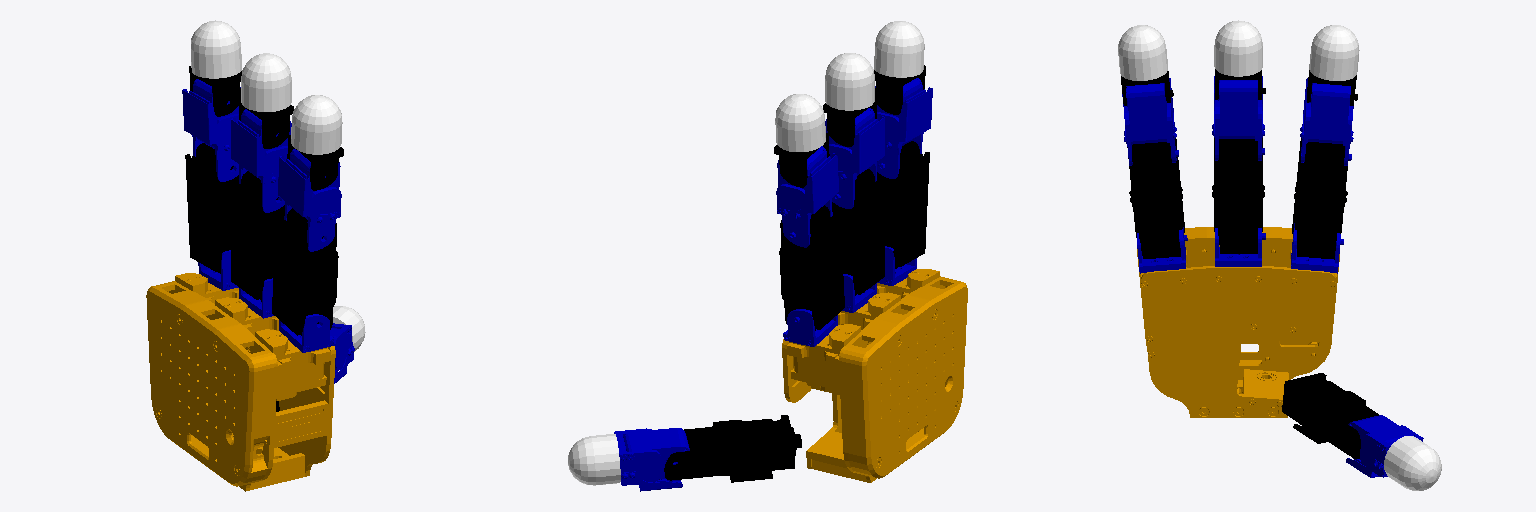
The robot description file, URDF, robot "allegro_hand":
<?xml version="1.0"?>
<robot name="allegro_hand">

  <material name="blue">
    <color rgba="0 0 0.8 1"/>
  </material>
  <material name="black">
    <color rgba="0 0 0 1"/>
  </material>
  <material name="white">
    <color rgba="1 1 1 1"/>
  </material>

  <link name="base_link">
    <visual>
      <geometry>
        <mesh filename="package://urdf_allegro_hand_r/meshes/40_10_link_g_r.stl"/>
      </geometry>
    </visual>
    <collision>
      <geometry>
        <mesh filename="package://urdf_allegro_hand_r/meshes/40_10_link_g_r.stl"/>
      </geometry>
    </collision>
    <inertial>
      <mass value="4.1685782e+02"/>
      <inertia ixx="1.1139612e+11" ixy="-9.2906454e+10" ixz="7.3970369e+09" 
      iyx= "-9.2906454e+10" iyy="4.6122500e+11" iyz="4.9169085e+09" 
      izx = "7.3970369e+09" izy = "4.9169085e+09" izz="5.7081991e+11"/>
    </inertial>
  </link>
  <!--Middle FInger-->
  <link name="mf1">
    <visual>
      <geometry>
        <mesh filename="package://urdf_allegro_hand_r/meshes/40_10_link_f1.stl"/>
      </geometry>
      <material name="blue"/>
      <origin xyz ="0 0 0.0166 "/>
    </visual>
    <collision>
      <geometry>
        <mesh filename="package://urdf_allegro_hand_r/meshes/40_10_link_f1.stl"/>
      </geometry>
      <origin xyz ="0 0 0.0166 "/>
    </collision>
    <inertial>
      <mass value="1.1350110e+01" />
      <inertia ixx=" 2.7007029e+03" ixy="3.1772169e+00" ixz="-9.9625685e+00" 
      iyx= "3.1772169e+00" iyy=" 2.0578543e+03" iyz="4.1823243e+00" 
      izx = "-9.9625685e+00" izy = "4.1823243e+00" izz=" 1.2713693e+03"/>
    </inertial>
  </link>
  <joint name="mf1" type="revolute">
    <parent link="base_link"/>
    <child link="mf1"/>
    <axis xyz="0 0 1"/>
    <origin xyz = "0 0 0"/>
    <limit lower="-0.57" upper="0.57" effort="10" velocity="3"/>
  </joint> 

  <link name="mf2">
    <visual>
      <geometry>
        <mesh filename="package://urdf_allegro_hand_r/meshes/40_10_link_f2.stl"/>
      </geometry>
      <material name="black"/>
      <origin rpy = "-1.5708 -1.5708 0" xyz ="0 0 0 "/>
    </visual>
    <collision>
      <geometry>
        <mesh filename="package://urdf_allegro_hand_r/meshes/40_10_link_f2.stl" />
      </geometry>
      <origin rpy = "-1.5708 -1.5708 0" xyz ="0 0 0 "/>
    </collision>
    <inertial>
      <mass value="7.1189096e+01" />
      <inertia ixx="1.0469372e+11" ixy="-4.2436168e+10" ixz="-1.8101962e+10" 
      iyx= "-4.2436168e+10" iyy="6.1027234e+11" iyz="3.7248539e+09" 
      izx = " -1.8101962e+10" izy = "3.7248539e+09" izz=" 5.7968823e+11"/>
    </inertial>
  </link>

  <joint name="mf2" type="revolute">
    <parent link="mf1"/>
    <child link="mf2"/>
    <origin xyz= "0 0 0.0166"/>
    <limit lower="-0.296" upper=" 1.71" effort="10" velocity="3"/>
    <axis xyz="0 1 0"/>
  </joint> 

  <link name="mf3">
    <visual>
      <geometry>
        <mesh filename="package://urdf_allegro_hand_r/meshes/40_10_link_f3.stl"/>
      </geometry>
      <material name="blue"/>
      <origin rpy = "-1.5708 0 0" xyz ="0 0 0 "/>
    </visual>
    <collision>
      <geometry>
        <mesh filename="package://urdf_allegro_hand_r/meshes/40_10_link_f3.stl" />
      </geometry>
      <origin rpy = "-1.5708 0 0" xyz ="0 0 0 "/>
    </collision>
    <inertial>
      <mass value="3.7588606e+01" />
      <inertia ixx="  4.6626681e+10" ixy="-4.6540270e+10" ixz="2.8462066e+09" 
      iyx= " -4.6540270e+10" iyy=" 1.5452396e+11" iyz="1.2914215e+09" 
      izx = " 2.8462066e+09" izy = "1.2914215e+09" izz="1.6359427e+11"/>
    </inertial>
  </link>

  <joint name="mf3" type="revolute">
    <parent link="mf2"/>
    <child link="mf3"/>
    <origin xyz= "0 0 0.054" rpy = "0 -1.5708 0"/>
    <limit lower="-0.274" upper=" 1.809" effort="10" velocity="3"/>
    <axis xyz="0 1 0"/>
  </joint> 

  <link name="mf4">
    <visual>
      <geometry>
        <mesh filename="package://urdf_allegro_hand_r/meshes/40_10_link_f4.stl"/>
      </geometry>
      <material name="black"/>
      <origin rpy = "-1.5708 0 0" xyz ="0 0 0 "/>
    </visual>
    <collision>
      <geometry>
        <mesh filename="package://urdf_allegro_hand_r/meshes/40_10_link_f4.stl" />
      </geometry>
      <origin rpy = "-1.5708 0 0" xyz ="0 0 0 "/>
    </collision>
    <inertial>
      <mass value="9.4301124e+00" />
      <inertia ixx=" 1.2117405e+03" ixy="9.9624823e+00" ixz="6.9119137e-01" 
      iyx= "9.9624823e+00" iyy="  2.1794983e+03" iyz="3.1772815e+00" 
      izx = "6.9119137e-01" izy = "3.1772815e+00" izz=" 1.5590472e+03"/>
    </inertial>
  </link>

  <joint name="mf4" type="revolute">
    <parent link="mf3"/>
    <child link="mf4"/>
    <origin xyz= "0.0384 0 0" rpy = "0 0 0"/>
    <limit lower="-0.327" upper="1.718" effort="10" velocity="3"/>
    <axis xyz="0 1 0"/>
  </joint> 

<link name="mf5">
    <visual>
      <geometry>
        <mesh filename="package://urdf_allegro_hand_r/meshes/40_10_link_f5.stl"/>
      </geometry>
      <material name="white"/>
      <origin rpy = "-1.5708 0 0" xyz ="0 0 0 "/>
    </visual>
    <collision>
      <geometry>
        <mesh filename="package://urdf_allegro_hand_r/meshes/40_10_link_f5.stl" />
      </geometry>
      <origin rpy = "-1.5708 0 0" xyz ="0 0 0 "/>
    </collision>
    <inertial>
      <mass value="1.6654268e+01" />
      <inertia ixx=" 7.2993680e+01" ixy=" 0.0000000e+00" ixz="0.0000000e+00" 
      iyx= "0.0000000e+00" iyy= "1.1760891e+02" iyz="0.0000000e+00" 
      izx = "0.0000000e+00" izy = "0.0000000e+00" izz="1.0967651e+02"/>
    </inertial>
  </link>

  <joint name="mf5" type="fixed">
    <parent link="mf4"/>
    <child link="mf5"/>
    <origin xyz= "0.0157 0 0"/>
  </joint> 

<!--Pinky Finger-->
  <link name="pf1">
    <visual>
      <geometry>
        <mesh filename="package://urdf_allegro_hand_r/meshes/40_10_link_f1.stl"/>
      </geometry>
      <material name="blue"/>
    </visual>
    <collision>
      <geometry>
        <mesh filename="package://urdf_allegro_hand_r/meshes/40_10_link_f1.stl"/>
      </geometry>
    </collision>
    <inertial>
      <mass value="1.1350110e+01" />
      <inertia ixx=" 2.7007029e+03" ixy="3.1772169e+00" ixz="-9.9625685e+00" 
      iyx= "3.1772169e+00" iyy=" 2.0578543e+03" iyz="4.1823243e+00" 
      izx = "-9.9625685e+00" izy = "4.1823243e+00" izz=" 1.2713693e+03"/>
    </inertial>
  </link>
  <joint name="pf1" type="revolute">
    <parent link="base_link"/>
    <child link="pf1"/>
    <axis xyz="0 0 1"/>
    <origin rpy = "0.0872665 0 0" xyz ="0 -0.045098 0.014293 "/>
    <limit lower="-0.57" upper="0.57" effort="10" velocity="3"/>
  </joint>

  <link name="pf2">
    <visual>
      <geometry>
        <mesh filename="package://urdf_allegro_hand_r/meshes/40_10_link_f2.stl"/>
      </geometry>
      <material name="black"/>
      <origin rpy = " -1.5708  -1.5708 0" xyz ="0 0 0 "/>
    </visual>
    <collision>
      <geometry>
        <mesh filename="package://urdf_allegro_hand_r/meshes/40_10_link_f2.stl" />
      </geometry>
      <origin rpy = " -1.5708  -1.5708 0" xyz ="0 0 0 "/>
    </collision>
  </link>
  <joint name="pf2" type="revolute">
    <parent link="pf1"/>
    <child link="pf2"/>
    <origin rpy = "0 0 0" xyz ="0 0 0 "/>
    <limit lower="-0.296" upper="1.71" effort="10" velocity="3"/>
    <axis xyz="0 1 0"/>
  </joint> 
  

  <link name="pf3">
    <visual>
      <geometry>
        <mesh filename="package://urdf_allegro_hand_r/meshes/40_10_link_f3.stl"/>
      </geometry>
      <material name="blue"/>
      <origin rpy = "-1.5708 0 0" xyz ="0 0 0 "/>
    </visual>
    <collision>
      <geometry>
        <mesh filename="package://urdf_allegro_hand_r/meshes/40_10_link_f3.stl" />
      </geometry>
      <origin rpy = "-1.5708 0 0" xyz ="0 0 0 "/>
    </collision>
    <inertial>
      <mass value="3.7588606e+01" />
      <inertia ixx="  4.6626681e+10" ixy="-4.6540270e+10" ixz="2.8462066e+09" 
      iyx= " -4.6540270e+10" iyy=" 1.5452396e+11" iyz="1.2914215e+09" 
      izx = " 2.8462066e+09" izy = "1.2914215e+09" izz="1.6359427e+11"/>
    </inertial>
  </link>

  <joint name="pf3" type="revolute">
    <parent link="pf2"/>
    <child link="pf3"/>
    <origin xyz= "0 0 0.054" rpy = "0 -1.5708 0"/>
    <limit lower="-0.274" upper="1.809" effort="10" velocity="3"/>
    <axis xyz="0 1 0"/>
  </joint> 

  <link name="pf4">
    <visual>
      <geometry>
        <mesh filename="package://urdf_allegro_hand_r/meshes/40_10_link_f4.stl"/>
      </geometry>
      <material name="black"/>
      <origin rpy = "-1.5708 0 0" xyz ="0 0 0 "/>
    </visual>
    <collision>
      <geometry>
        <mesh filename="package://urdf_allegro_hand_r/meshes/40_10_link_f4.stl" />
      </geometry>
      <origin rpy = "-1.5708 0 0" xyz ="0 0 0 "/>
    </collision>
    <inertial>
      <mass value="9.4301124e+00" />
      <inertia ixx=" 1.2117405e+03" ixy="9.9624823e+00" ixz="6.9119137e-01" 
      iyx= "9.9624823e+00" iyy="  2.1794983e+03" iyz="3.1772815e+00" 
      izx = "6.9119137e-01" izy = "3.1772815e+00" izz=" 1.5590472e+03"/>
    </inertial>
  </link>

  <joint name="pf4" type="revolute">
    <parent link="pf3"/>
    <child link="pf4"/>
    <origin xyz= "0.0384 0 0"/>
     <limit lower="-0.327" upper="1.718" effort="10" velocity="3"/>
    <axis xyz="0 1 0"/>
  </joint> 

  <link name="pf5">
    <visual>
      <geometry>
        <mesh filename="package://urdf_allegro_hand_r/meshes/40_10_link_f5.stl"/>
      </geometry>
      <material name="white"/>
      <origin rpy = "-1.5708 0 0" xyz ="0 0 0 "/>
    </visual>
    <collision>
      <geometry>
        <mesh filename="package://urdf_allegro_hand_r/meshes/40_10_link_f5.stl" />
      </geometry>
      <origin rpy = "-1.5708 0 0" xyz ="0 0 0 "/>
    </collision>
    <inertial>
      <mass value="1.6654268e+01" />
      <inertia ixx=" 7.2993680e+01" ixy=" 0.0000000e+00" ixz="0.0000000e+00" 
      iyx= "0.0000000e+00" iyy= "1.1760891e+02" iyz="0.0000000e+00" 
      izx = "0.0000000e+00" izy = "0.0000000e+00" izz="1.0967651e+02"/>
    </inertial>
  </link>

  <joint name="pf5" type="fixed">
    <parent link="pf4"/>
    <child link="pf5"/>
    <origin xyz= "0.0157 0 0"/>
  </joint> 
<!--Index FInger-->

<link name="if1">
    <visual>
      <geometry>
        <mesh filename="package://urdf_allegro_hand_r/meshes/40_10_link_f1.stl"/>
      </geometry>
      <material name="blue"/>
    </visual>
    <collision>
      <geometry>
        <mesh filename="package://urdf_allegro_hand_r/meshes/40_10_link_f1.stl"/>
      </geometry>
    </collision>
    <inertial>
      <mass value="1.1350110e+01" />
      <inertia ixx=" 2.7007029e+03" ixy="3.1772169e+00" ixz="-9.9625685e+00" 
      iyx= "3.1772169e+00" iyy=" 2.0578543e+03" iyz="4.1823243e+00" 
      izx = "-9.9625685e+00" izy = "4.1823243e+00" izz=" 1.2713693e+03"/>
    </inertial>
  </link>
  <joint name="if1" type="revolute">
    <parent link="base_link"/>
    <child link="if1"/>
    <axis xyz="0 0 1"/>
    <origin rpy = "-0.0872665 0 0" xyz ="0 0.045098 0.014293 "/>
    <limit lower="-0.57" upper="0.57" effort="10" velocity="3"/>
  </joint>

<link name="if2">
    <visual>
      <geometry>
        <mesh filename="package://urdf_allegro_hand_r/meshes/40_10_link_f2.stl"/>
      </geometry>
      <material name="black"/>
      <origin rpy = " -1.5708  -1.5708 0" xyz ="0 0 0 "/>
    </visual>
    <collision>
      <geometry>
        <mesh filename="package://urdf_allegro_hand_r/meshes/40_10_link_f2.stl" />
      </geometry>
      <origin rpy = " -1.5708  -1.5708 0" xyz ="0 0 0 "/>
    </collision>
  </link>
  <joint name="if2" type="revolute">
    <parent link="if1"/>
    <child link="if2"/>
    <origin rpy = "0 0 0" xyz ="0 0 0 "/>
    <limit lower="-0.296" upper="1.71" effort="10" velocity="3"/>
    <axis xyz="0 1 0"/>
  </joint>

  <link name="if3">
    <visual>
      <geometry>
        <mesh filename="package://urdf_allegro_hand_r/meshes/40_10_link_f3.stl"/>
      </geometry>
      <material name="blue"/>
      <origin rpy = "-1.5708 0 0" xyz ="0 0 0 "/>
    </visual>
    <collision>
      <geometry>
        <mesh filename="package://urdf_allegro_hand_r/meshes/40_10_link_f3.stl" />
      </geometry>
      <origin rpy = "-1.5708 0 0" xyz ="0 0 0 "/>
    </collision>
    <inertial>
      <mass value="3.7588606e+01" />
      <inertia ixx="  4.6626681e+10" ixy="-4.6540270e+10" ixz="2.8462066e+09" 
      iyx= " -4.6540270e+10" iyy=" 1.5452396e+11" iyz="1.2914215e+09" 
      izx = " 2.8462066e+09" izy = "1.2914215e+09" izz="1.6359427e+11"/>
    </inertial>
  </link>

  <joint name="if3" type="revolute">
    <parent link="if2"/>
    <child link="if3"/>
    <origin xyz= "0 0 0.054" rpy = "0 -1.5708 0"/>
    <limit lower="-0.274" upper="1.809" effort="10" velocity="3"/>
    <axis xyz="0 1 0"/>
  </joint> 


  <link name="if4">
    <visual>
      <geometry>
        <mesh filename="package://urdf_allegro_hand_r/meshes/40_10_link_f4.stl"/>
      </geometry>
      <material name="black"/>
      <origin rpy = "-1.5708 0 0" xyz ="0 0 0 "/>
    </visual>
    <collision>
      <geometry>
        <mesh filename="package://urdf_allegro_hand_r/meshes/40_10_link_f4.stl" />
      </geometry>
      <origin rpy = "-1.5708 0 0" xyz ="0 0 0 "/>
    </collision>
    <inertial>
      <mass value="9.4301124e+00" />
      <inertia ixx=" 1.2117405e+03" ixy="9.9624823e+00" ixz="6.9119137e-01" 
      iyx= "9.9624823e+00" iyy="  2.1794983e+03" iyz="3.1772815e+00" 
      izx = "6.9119137e-01" izy = "3.1772815e+00" izz=" 1.5590472e+03"/>
    </inertial>
  </link>

  <joint name="if4" type="revolute">
    <parent link="if3"/>
    <child link="if4"/>
    <origin xyz= "0.0384 0 0"/>
     <limit lower="-0.327" upper="1.718" effort="10" velocity="3"/>
    <axis xyz="0 1 0"/>
  </joint>


  <link name="if5">
    <visual>
      <geometry>
        <mesh filename="package://urdf_allegro_hand_r/meshes/40_10_link_f5.stl"/>
      </geometry>
      <material name="white"/>
      <origin rpy = "-1.5708 0 0" xyz ="0 0 0 "/>
    </visual>
    <collision>
      <geometry>
        <mesh filename="package://urdf_allegro_hand_r/meshes/40_10_link_f5.stl" />
      </geometry>
      <origin rpy = "-1.5708 0 0" xyz ="0 0 0 "/>
    </collision>
    <inertial>
      <mass value="1.6654268e+01" />
      <inertia ixx=" 7.2993680e+01" ixy=" 0.0000000e+00" ixz="0.0000000e+00" 
      iyx= "0.0000000e+00" iyy= "1.1760891e+02" iyz="0.0000000e+00" 
      izx = "0.0000000e+00" izy = "0.0000000e+00" izz="1.0967651e+02"/>
    </inertial>
  </link>

  <joint name="if5" type="fixed">
    <parent link="if4"/>
    <child link="if5"/>
    <origin xyz= "0.0157 0 0"/>
  </joint>




<!--Thumb-->
  <link name="th1">
    <visual>
      <geometry>
        <mesh filename="package://urdf_allegro_hand_r/meshes/40_10_link_t1_r.stl" scale = "0.001 0.001 0.001"/>
        <!-- <origin xyz ="-0.0182 0.016958 -0.073288 " /> -->
      </geometry>
      <material name="blue"/>
    </visual>
    <collision>
      <geometry>
        <mesh filename="package://urdf_allegro_hand_r/meshes/40_10_link_t1_r.stl"/>
      </geometry>
    </collision>
    <inertial>
      <mass value="7.9809876e-02" />
      <inertia ixx="1.1585993e+08" ixy=" -1.2877480e+06" ixz="-4.6980813e+07" 
      iyx= "-1.2877480e+06" iyy=" 1.4364829e+08" iyz="-2.8936529e+06" 
      izx = "-4.6980813e+07" izy = "-2.8936529e+06" izz=" 2.8012673e+07"/>
    </inertial>
  </link>

  <joint name="th1" type="revolute">
    <parent link="base_link"/>
    <child link="th1"/>
    <limit lower="0.36357" upper="1.4968" effort="10" velocity="3"/>
    <axis xyz="0 0 -1"/>
    <origin rpy = "-0.0872665 0 0" xyz ="-0.0182 0.016958 -0.073288 " />
  </joint>


  <link name="th2">
    <visual>
      <geometry>
        <mesh filename="package://urdf_allegro_hand_r/meshes/40_10_link_t2.stl" scale = "0.001 0.001 0.001"/>
      </geometry>
      <material name="black"/>
      <origin rpy = " -1.5708 -1.5708 0" xyz ="0 0 0 "/>
    </visual>
    <collision>
      <geometry>
        <mesh filename="package://urdf_allegro_hand_r/meshes/40_10_link_t2.stl" scale = "0.001 0.001 0.001"/>
      </geometry>
    </collision>
    <inertial>
      <mass value="1.1350110e-02" />
      <inertia ixx="2.7007029e+00" ixy=" 3.1772015e-03" ixz="-9.9625696e-03" 
      iyx= "3.1772015e-03" iyy="2.0578543e+00" iyz="4.1823243e-03" 
      izx = "-9.9625696e-03" izy = "4.1823243e-03" izz=" 1.2713693e+00"/>
    </inertial>
  </link>
  <joint name="th2" type="revolute">
    <parent link="th1"/>
    <child link="th2"/>
    <origin rpy = "0 0 0" xyz ="0.005 0.055189 0 "/>
    <limit lower="-0.20504289" upper="1.263" effort="10" velocity="3"/>
    <axis xyz="0 1 0"/>
    
  </joint>

  <link name="th3">
    <visual>
      <geometry>
        <mesh filename="package://urdf_allegro_hand_r/meshes/40_10_link_t3.stl"/>
      </geometry>
      <material name="black"/>
      <origin rpy = " 0  0 -1.5708" xyz ="0 0 0 "/>
    </visual>
    <collision>
      <geometry>
        <mesh filename="package://urdf_allegro_hand_r/meshes/40_10_link_t3.stl" />
      </geometry>
    </collision>
    <inertial>
      <mass value=" 4.0206693e-02" />
      <inertia ixx=" 2.7804865e+07" ixy="1.3945030e+06" ixz="0.0000000e+00" 
      iyx= " 1.3945030e+06" iyy="7.3569085e+07" iyz=" 1.7291527e+04" 
      izx = " 0.0000000e+00" izy = "1.7291527e+04" izz="6.3982627e+07"/>
    </inertial>
  </link>
  <joint name="th3" type="revolute">
    <parent link="th2"/>
    <child link="th3"/>
    <origin rpy = "0 0 0" xyz ="0 0 0 "/>
    <limit lower="-0.2897" upper="1.7440" effort="10" velocity="3"/>
    <axis xyz="1 0 0"/>
  </joint>

  <link name="th4">
    <visual>
      <geometry>
        <mesh filename="package://urdf_allegro_hand_r/meshes/40_10_link_t4.stl"/>
      </geometry>
      <material name="blue"/>
      <origin rpy = " 0  0 -1.5708" xyz ="0 0 0 "/>
    </visual>
    <collision>
      <geometry>
        <mesh filename="package://urdf_allegro_hand_r/meshes/40_10_link_t4.stl" />
      </geometry>
    </collision>
    <inertial>
      <mass value=" 4.0750131e-02" />
      <inertia ixx=" 2.7804864e+07" ixy=" 1.3945020e+06" ixz="0.0000000e+00" 
      iyx= "  1.3945020e+06" iyy="7.3569079e+07" iyz="1.7291521e+04" 
      izx = " 0.0000000e+00" izy = " 1.7291521e+04" izz="6.3982622e+07"/>
    </inertial>
  </link>
  <joint name="th4" type="revolute">
    <parent link="th3"/>
    <child link="th4"/>
    <origin rpy = "0 0 0" xyz ="0 0.051204 0 "/>
    <limit lower="-0.2622" upper="1.81991" effort="10" velocity="3"/>
    <axis xyz="1 0 0"/>
  </joint>

  <link name="th5">
    <visual>
      <geometry>
        <mesh filename="package://urdf_allegro_hand_r/meshes/40_10_link_f5.stl"/>
      </geometry>
      <material name="white"/>
      <origin rpy = " 0  0 1.5708" xyz ="0 0 0 "/>
    </visual>
    <collision>
      <geometry>
        <mesh filename="package://urdf_allegro_hand_r/meshes/40_10_link_f5.stl" />
      </geometry>
    </collision>
    <inertial>
      <mass value="1.6654268e+01" />
      <inertia ixx=" 7.2993680e+01" ixy=" 0.0000000e+00" ixz="0.0000000e+00" 
      iyx= "0.0000000e+00" iyy= "1.1760891e+02" iyz="0.0000000e+00" 
      izx = "0.0000000e+00" izy = "0.0000000e+00" izz="1.0967651e+02"/>
    </inertial>
  </link>
  <joint name="th5" type="fixed">
    <parent link="th4"/>
    <child link="th5"/>
    <origin rpy = "0 -1.4835335 0" xyz ="0 0.0313 0 "/>
    
  </joint>


</robot>

--- Render facts (derived) ---
The picture shows the robot from 3 angles, left to right: view 1: azimuth 30°, elevation 25°; view 2: azimuth 150°, elevation 25°; view 3: azimuth 270°, elevation 25°; orthographic projection.
Model allegro_hand with 21 links and 20 joints (16 revolute, 4 fixed), rooted at base_link, posed all joints at 0 but 1 set to mid-range because 0 is outside their limits (th1 = 0.9302).
Links seen in each view (by area): view 1: base_link, pf2, mf2, if2, pf3, mf3, if3, pf5, mf5, if5, pf1, if4 (+6 smaller); view 2: base_link, if2, th3, mf2, pf2, if3, th4, mf3, pf3, if5, mf5, pf5 (+8 smaller); view 3: base_link, if2, pf2, mf2, th3, if3, pf3, mf3, th5, mf5, if5, pf5 (+5 smaller).
Link boxes in pixels (box(x1,y1,x2,y2)): base_link: box(146, 273, 335, 491); pf2: box(272, 208, 338, 335); mf2: box(231, 171, 284, 301); if2: box(185, 143, 238, 273); pf3: box(278, 149, 341, 251); mf3: box(231, 109, 291, 212); if3: box(182, 79, 240, 181); pf5: box(291, 95, 342, 154); mf5: box(241, 53, 291, 111); if5: box(191, 20, 241, 78); pf1: box(279, 314, 333, 352); if4: box(189, 66, 241, 116); base_link: box(782, 269, 967, 482); if2: box(779, 205, 844, 330); th3: box(664, 419, 780, 482); mf2: box(832, 169, 884, 295); pf2: box(877, 141, 929, 268); if3: box(776, 146, 838, 247); th4: box(614, 428, 689, 491); mf3: box(825, 108, 884, 208); pf3: box(875, 78, 932, 178); if5: box(775, 94, 825, 151); mf5: box(825, 53, 874, 110); pf5: box(874, 21, 924, 77); base_link: box(1137, 227, 1339, 417); if2: box(1292, 138, 1348, 259); pf2: box(1127, 138, 1184, 258); mf2: box(1212, 138, 1264, 253); th3: box(1293, 381, 1378, 458); if3: box(1300, 78, 1353, 165); pf3: box(1122, 78, 1178, 165); mf3: box(1212, 76, 1264, 160); th5: box(1384, 436, 1441, 490); mf5: box(1214, 20, 1262, 76); if5: box(1309, 25, 1359, 80); pf5: box(1118, 25, 1167, 80).
Bounding box of the posed robot: 0.1639 × 0.187 × 0.2479 m (x, y, z).
20 mesh visuals loaded from 10 distinct referenced files (9 binary STL); not drawn: 1 (reference not matched to a file when rendering).